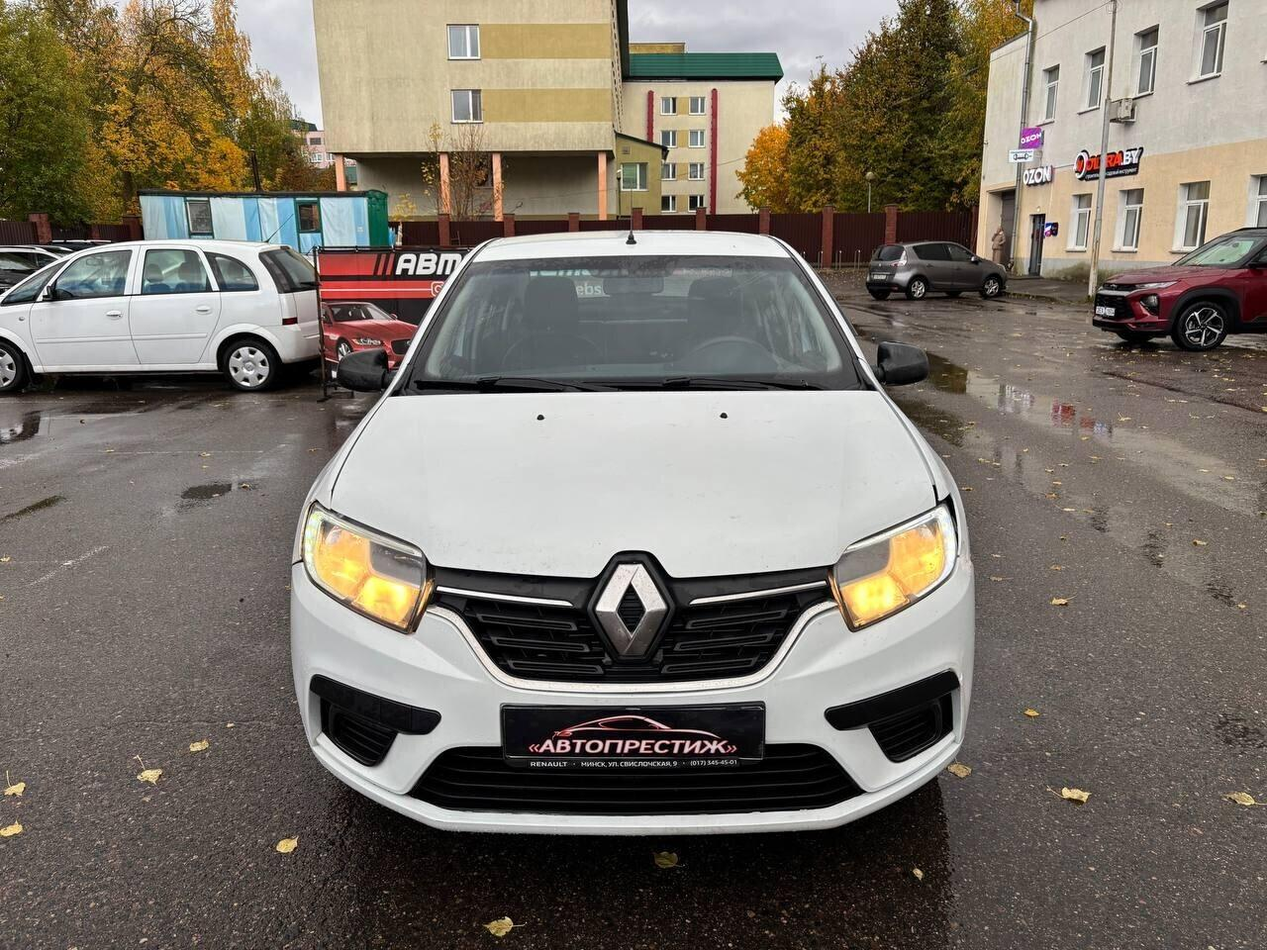Logan_2018: (292, 225, 987, 834)
